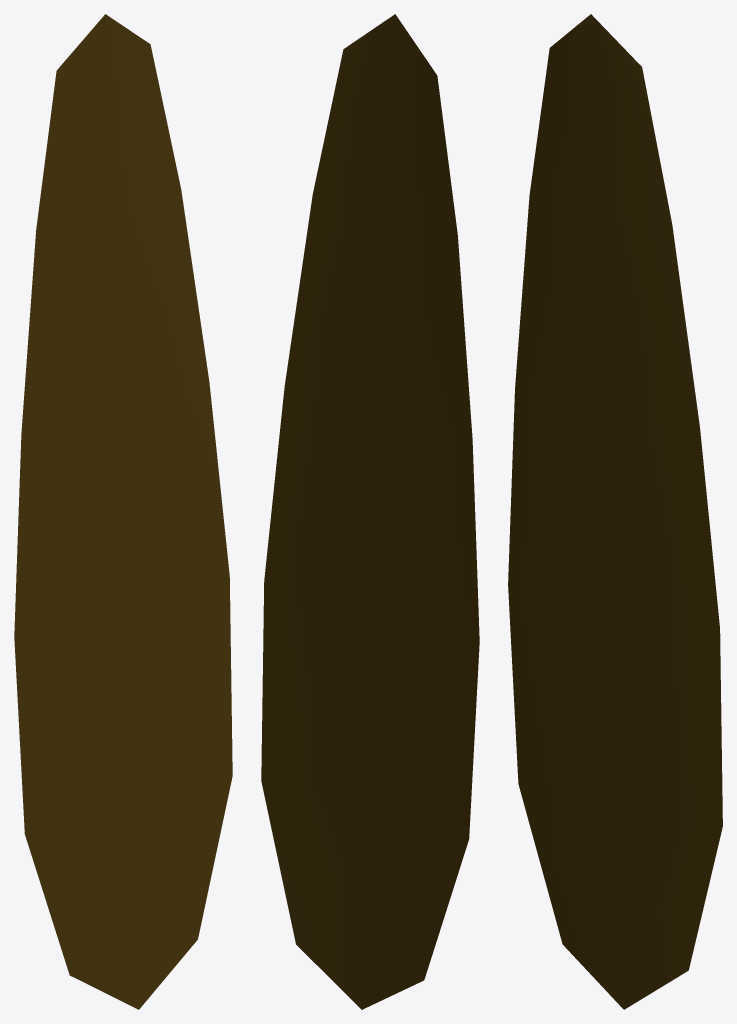
File: canary_feather_flight_primary_005.obj
3 renders of one model, left to right at view 1: azimuth 30°, elevation 25°; view 2: azimuth 150°, elevation 25°; view 3: azimuth 330°, elevation 25°, orthographic.
Visible parts, largest first — view 1: feather_flight_primary_005; view 2: feather_flight_primary_005; view 3: feather_flight_primary_005.
Part boxes in pixels (left/top/right/bottom): feather_flight_primary_005: left=14, top=14, right=232, bottom=1009; feather_flight_primary_005: left=261, top=14, right=479, bottom=1009; feather_flight_primary_005: left=508, top=14, right=722, bottom=1009.
Size of the model in its own units: 0.00576 by 0.0253 by 0.000155.
